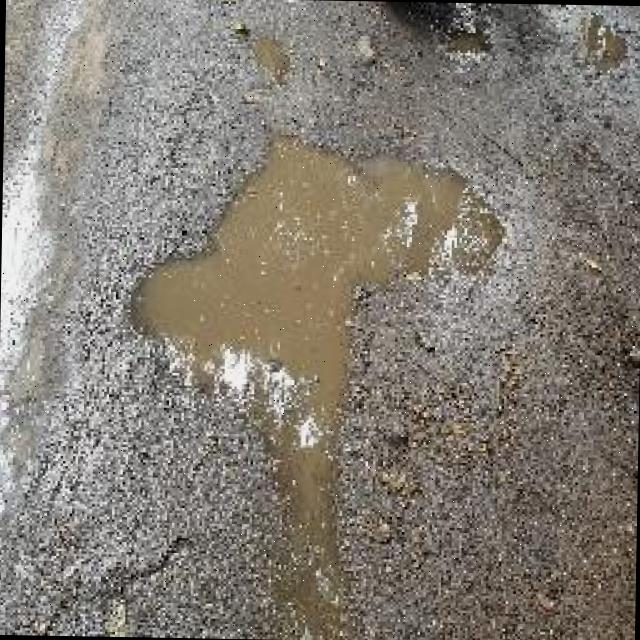stagnation: (144, 126, 462, 634)
